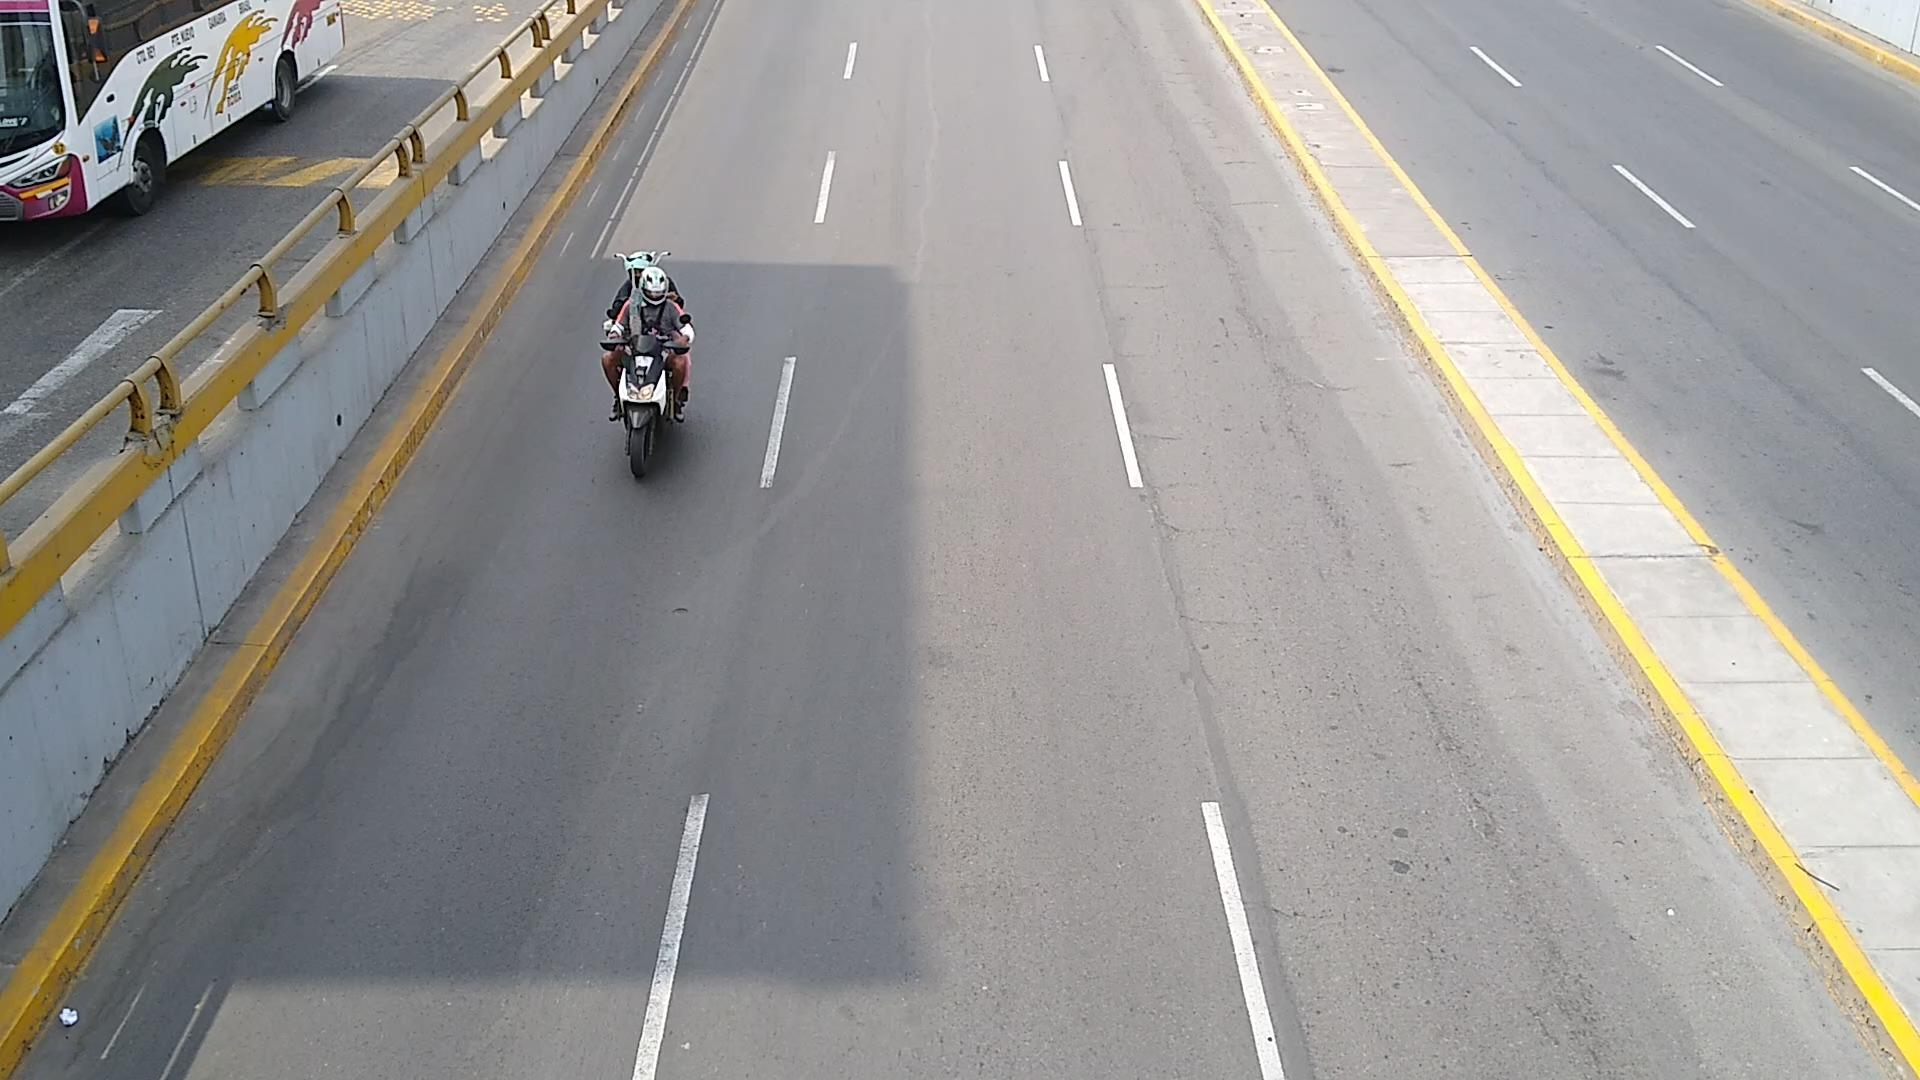bus: (0, 0, 345, 223)
motorcycle: (604, 334, 679, 476)
motorcyclist: (604, 266, 690, 375), (628, 413, 657, 476), (675, 360, 686, 418)
